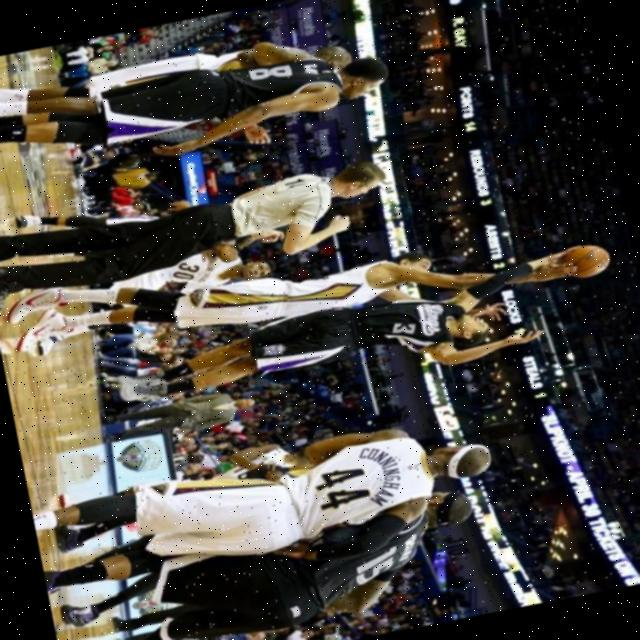ball: (560, 242, 614, 282)
